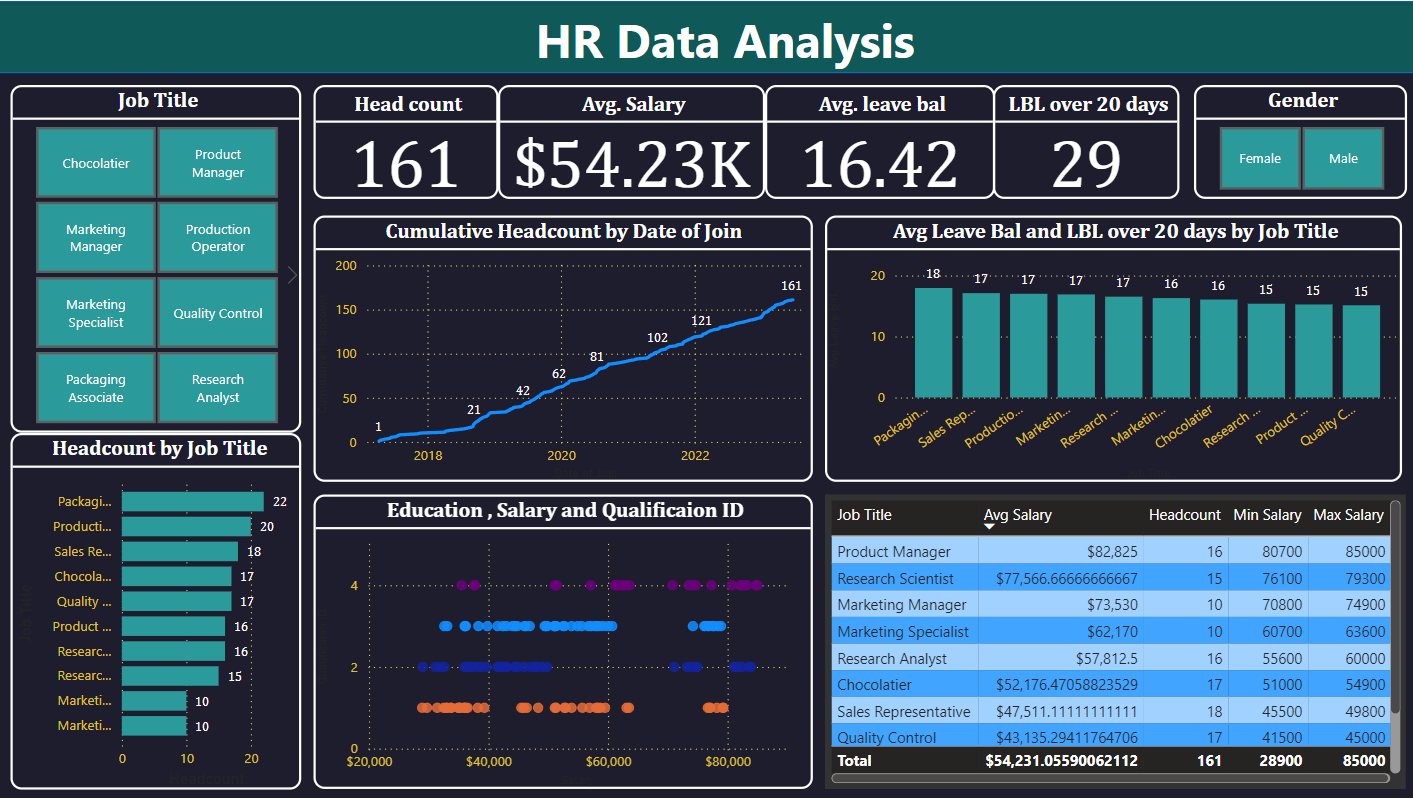

The dashboard page shown, as its layout file describes it:
{"tool":"powerbi","page":{"name":"Page 1","canvas":[1280,720],"ordinal":0},"visuals":[{"type":"shape","box":[0,0,1280,65],"z":0},{"type":"textbox","box":[355,0,601.7,75],"z":1000},{"type":"card","title":"Head count","fields":{"Values":["HR_data.Headcount"]},"box":[284.7,75.7,166.6,103],"z":2000},{"type":"card","title":"Avg. Salary","fields":{"Values":["HR_data.Avg Salary"]},"box":[451.2,75.7,240.8,103],"z":3000},{"type":"card","title":"Avg. leave bal","fields":{"Values":["HR_data.Avg Leave Bal"]},"box":[692,75.7,207.4,103],"z":4000},{"type":"card","title":"LBL over 20 days","fields":{"Values":["HR_data.LBL over 20 days"]},"box":[897.9,75.7,168.1,103],"z":5000},{"type":"columnChart","fields":{"Category":["HR_data.Job Title"],"Y":["HR_data.Avg Leave Bal"]},"box":[746.7,193.3,520,240],"z":6000},{"type":"slicer","title":"Job Title","fields":{"Values":["HR_data.Job Title"]},"box":[12.1,75.7,262,313.4],"z":7000},{"type":"clusteredBarChart","fields":{"Y":["HR_data.Headcount"],"Category":["HR_data.Job Title"]},"box":[12.1,389.2,262,321],"z":8000},{"type":"tableEx","fields":{"Values":["HR_data.Job Title","HR_data.Avg Salary","HR_data.Headcount","HR_data.Min Salary","HR_data.Max Salary"]},"box":[746.7,445,523.3,265],"z":9000},{"type":"lineChart","fields":{"Y":["HR_data.Cumulative Headcount"],"Category":["HR_data.Date of Join"]},"box":[285,193.3,450,240],"z":10000},{"type":"scatterChart","title":"Education , Salary and Qualificaion ID","fields":{"X":["HR_data.Salary"],"Series":["HR_data.Education Qualification"],"Y":["Qual.Qualificaion ID"]},"box":[285,445,450,265],"z":11000},{"type":"slicer","title":"Gender","fields":{"Values":["HR_data.Gender"]},"box":[1078.1,75.7,192.3,103],"z":12000}]}

Visuals, with their boxes in screenshot pixels (x1, y1, x2, y2), scaled from the page's 1280x720 canvas onto the 1413x798 screenshot:
shape: detection(0, 0, 1412, 72)
textbox: detection(392, 0, 1056, 83)
"Head count" card: detection(314, 84, 498, 198)
"Avg. Salary" card: detection(498, 84, 764, 198)
"Avg. leave bal" card: detection(764, 84, 993, 198)
"LBL over 20 days" card: detection(991, 84, 1177, 198)
columnChart - HR_data.Job Title x HR_data.Avg Leave Bal: detection(824, 214, 1398, 480)
"Job Title" slicer: detection(13, 84, 303, 431)
clusteredBarChart - HR_data.Headcount x HR_data.Job Title: detection(13, 431, 303, 787)
tableEx - HR_data.Job Title x HR_data.Avg Salary: detection(824, 493, 1402, 787)
lineChart - HR_data.Cumulative Headcount x HR_data.Date of Join: detection(315, 214, 811, 480)
"Education , Salary and Qualificaion ID" scatterChart: detection(315, 493, 811, 787)
"Gender" slicer: detection(1190, 84, 1402, 198)
